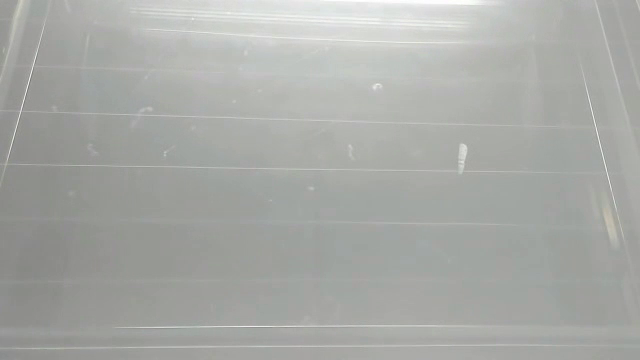alpha: (453, 140, 470, 178)
